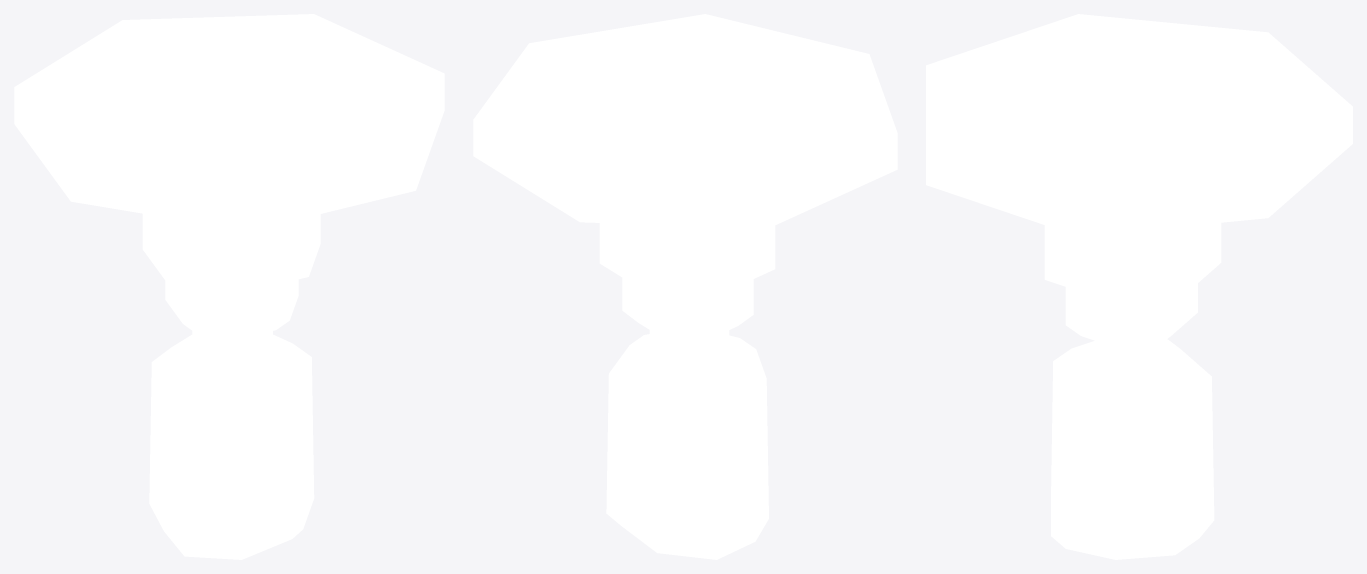
File: Focus_02.glb
3 views of the same model, side by side, from view 1: azimuth 30°, elevation 25°; view 2: azimuth 150°, elevation 25°; view 3: azimuth 270°, elevation 25° (orthographic). The views are drawn at different scales.
Visible parts, largest first — view 1: Focus_02.002; view 2: Focus_02.002; view 3: Focus_02.002.
Boxes of the visible parts, bbox=[...] form: Focus_02.002: bbox=[14, 14, 444, 559]; Focus_02.002: bbox=[473, 14, 897, 559]; Focus_02.002: bbox=[926, 14, 1352, 559].
Size of the model in its own units: 0.2486 by 0.2762 by 0.2424.
1 material, 1 textured.
